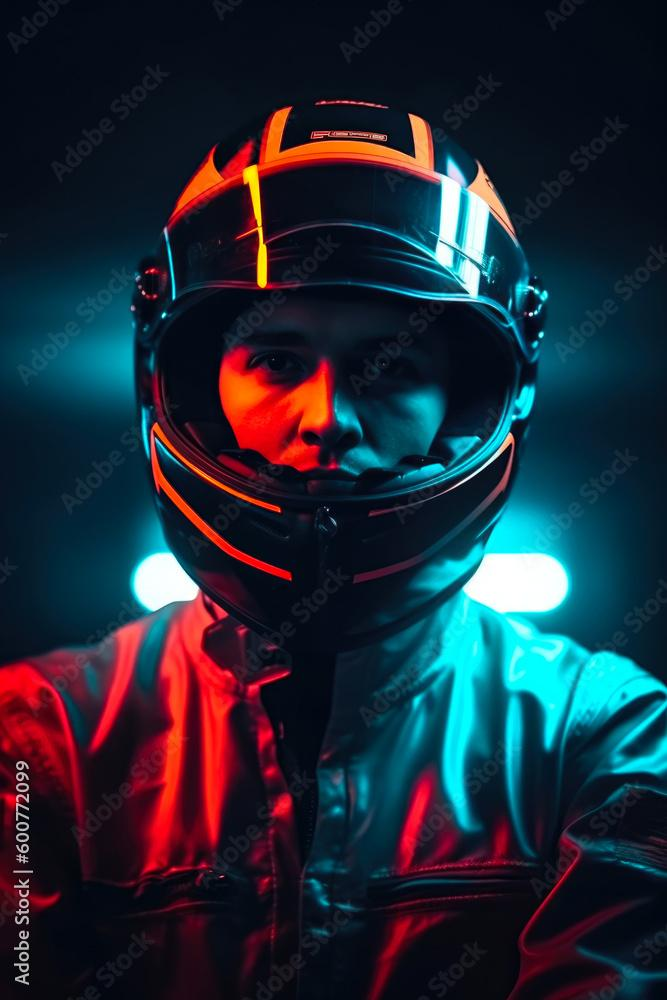helmet: (129, 97, 550, 660)
